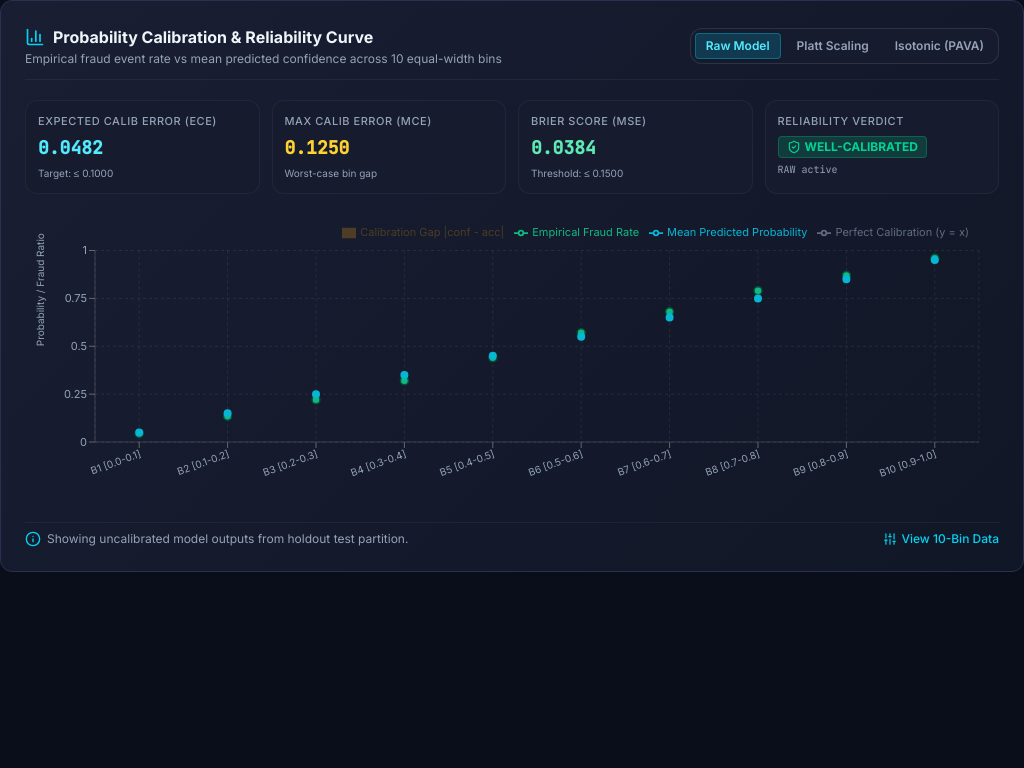
Test: CalibrationReliabilityPlot Component Test Suite › switches between Raw, Platt Scaling, and Isotonic Regression
// Click Platt Scaling button
Click the button "Platt Scaling" at (833, 46), box x1=787 y1=34 x2=879 y2=58
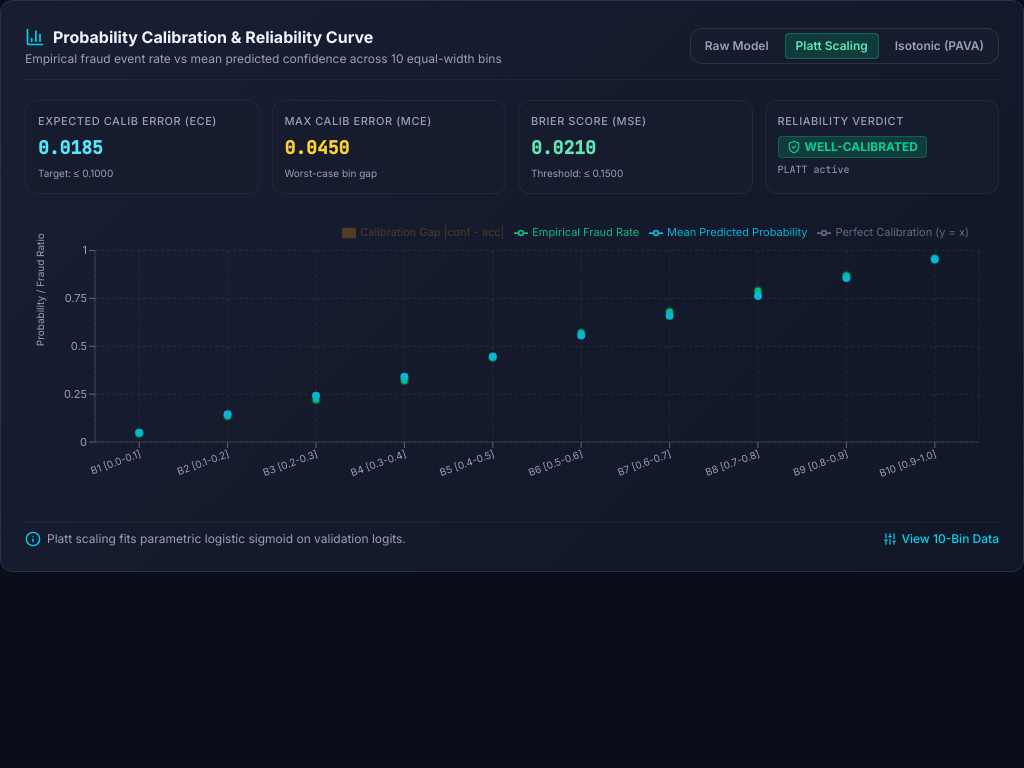
Expected: the text "PLATT active" is shown, x1=778 y1=162 x2=850 y2=176
Expected: the text "Platt scaling fits parametric logistic sigmoid" is shown, x1=47 y1=530 x2=406 y2=546
// Click Isotonic button
Click the button "Isotonic (PAVA)" at (939, 46), box x1=885 y1=34 x2=994 y2=58
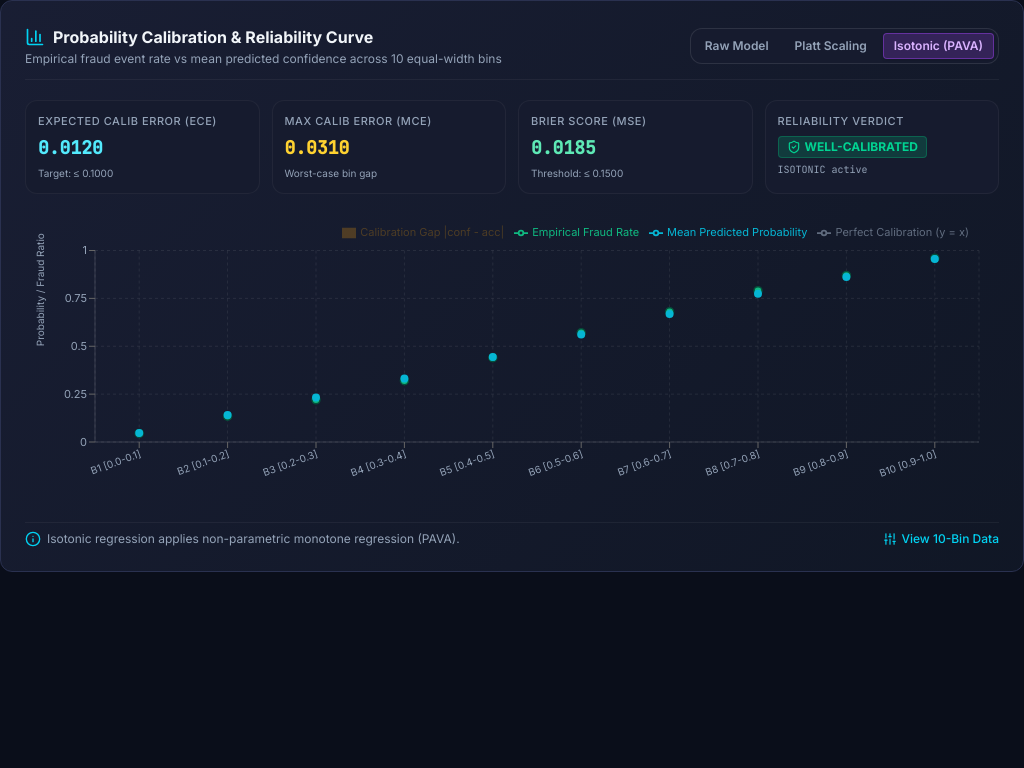
Expected: the text "ISOTONIC active" is shown, x1=778 y1=162 x2=868 y2=176
Expected: the text "Isotonic regression applies non-parametric" is shown, x1=47 y1=530 x2=460 y2=546
// Return to Raw
Click the button "Raw Model" at (737, 46), box x1=695 y1=34 x2=779 y2=58
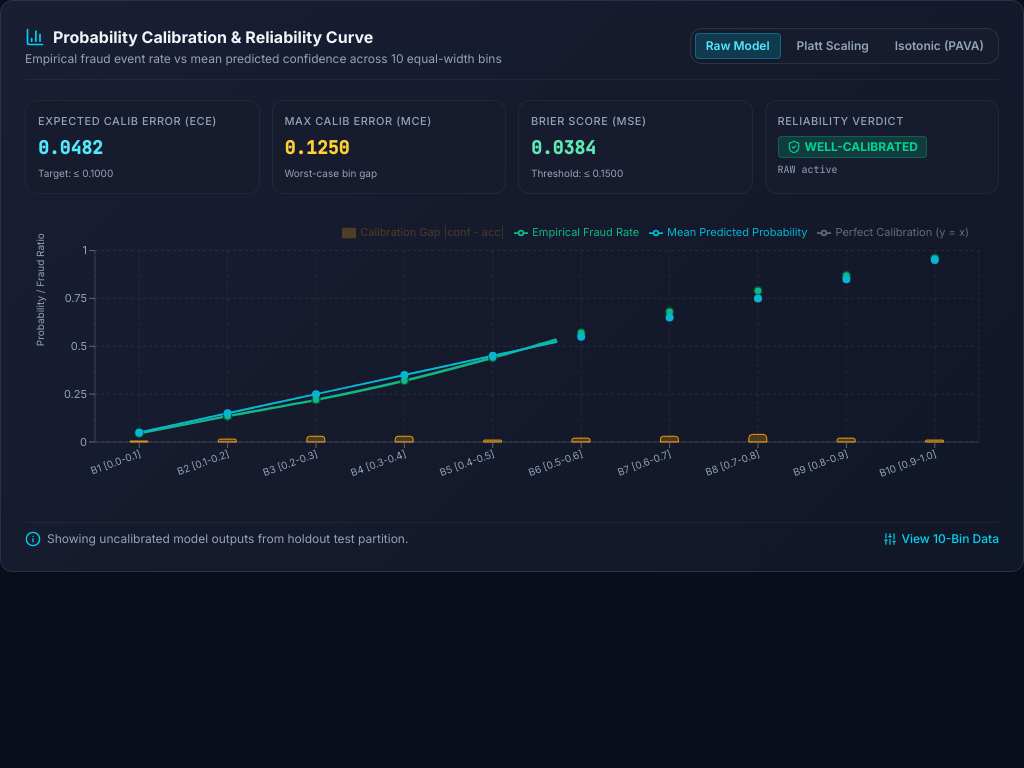
Expected: the text "RAW active" is shown, x1=778 y1=162 x2=838 y2=176
